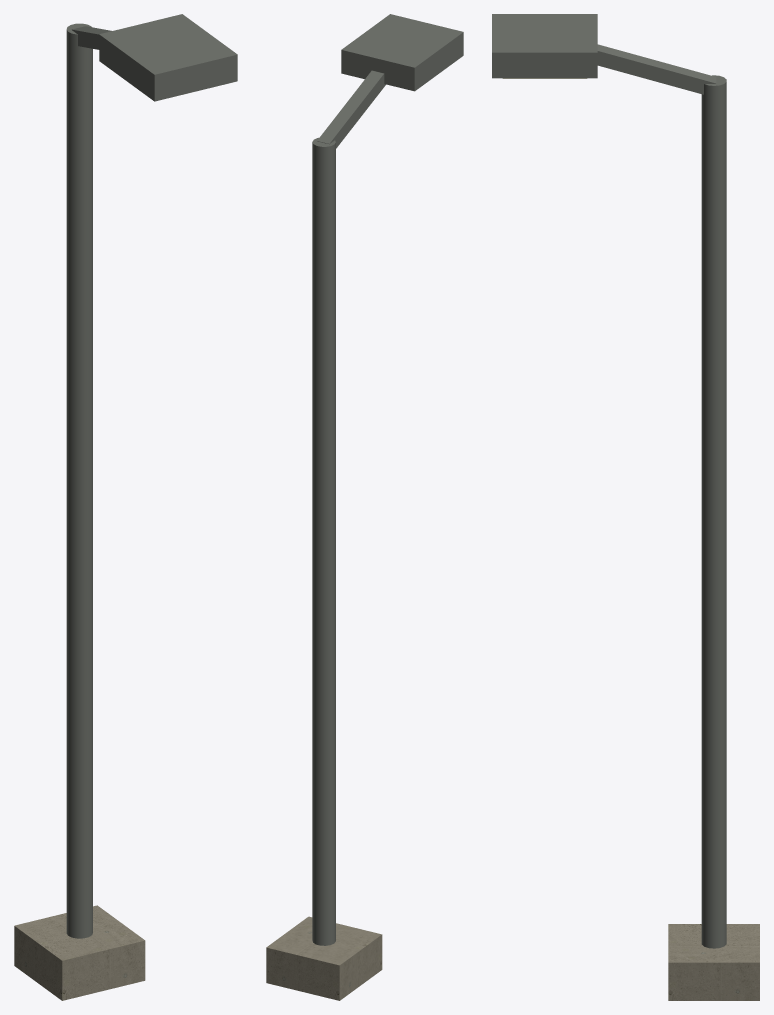
Rendered from light_pole.glb.
3 views of the same model, side by side, from view 1: azimuth 30°, elevation 25°; view 2: azimuth 150°, elevation 25°; view 3: azimuth 270°, elevation 25° (orthographic). The views are drawn at different scales.
Visible parts, largest first — view 1: Lamp_pole, Lamp_foundation, Lamp_fixture, Lamp_arm; view 2: Lamp_pole, Lamp_foundation, Lamp_fixture, Lamp_arm; view 3: Lamp_pole, Lamp_fixture, Lamp_foundation, Lamp_arm.
Part boxes in pixels (x1=…): Lamp_pole: x1=66, y1=23, x2=92, y2=938; Lamp_foundation: x1=14, y1=905, x2=145, y2=1000; Lamp_fixture: x1=99, y1=14, x2=237, y2=101; Lamp_arm: x1=72, y1=26, x2=111, y2=49; Lamp_pole: x1=312, y1=137, x2=335, y2=945; Lamp_foundation: x1=266, y1=916, x2=382, y2=1000; Lamp_fixture: x1=341, y1=14, x2=463, y2=91; Lamp_arm: x1=317, y1=70, x2=385, y2=148; Lamp_pole: x1=701, y1=75, x2=726, y2=948; Lamp_fixture: x1=492, y1=14, x2=597, y2=78; Lamp_foundation: x1=668, y1=924, x2=759, y2=1000; Lamp_arm: x1=597, y1=44, x2=716, y2=94.
Bounding box in the file's own units: 0.65 × 7.42 × 1.9.
3 materials, 1 textured.
